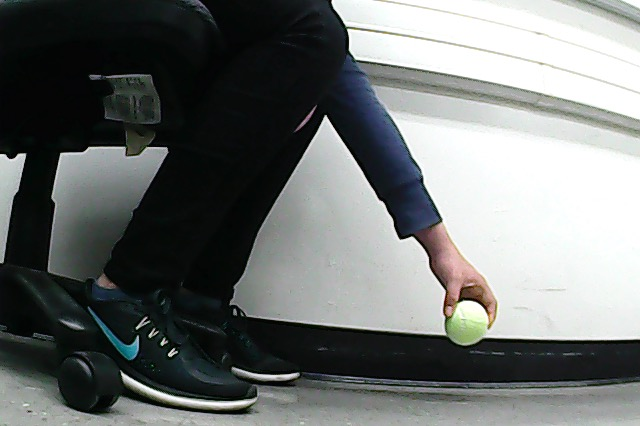ball: (444, 300, 489, 345)
